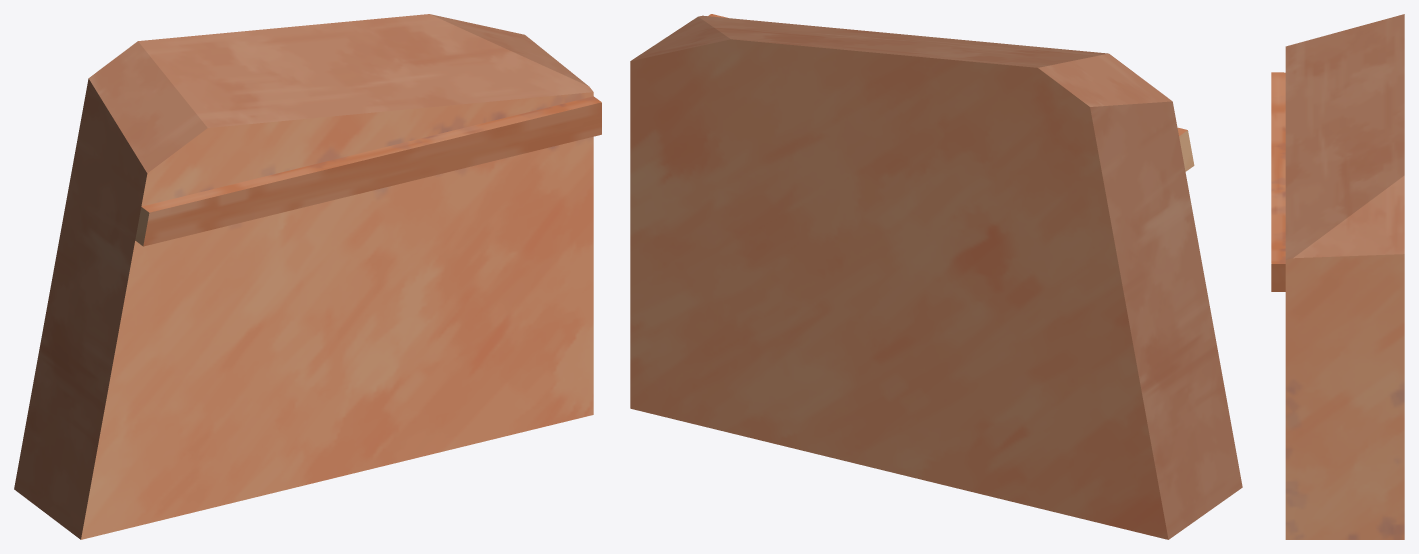
File: wall2_upper_shutter_s11.fbx
3 views of the same model, side by side, from view 1: azimuth 30°, elevation 25°; view 2: azimuth 150°, elevation 25°; view 3: azimuth 270°, elevation 25° (orthographic). The views are drawn at different scales.
Visible parts, largest first — view 1: wall2_upper_shutter_s11; view 2: wall2_upper_shutter_s11; view 3: wall2_upper_shutter_s11.
Part boxes in pixels (<box>): wall2_upper_shutter_s11: <box>14,14,601,539</box>; wall2_upper_shutter_s11: <box>630,14,1242,539</box>; wall2_upper_shutter_s11: <box>1271,14,1404,539</box>.
Size of the model in its own units: 4.31 by 3.36 by 1.12.
